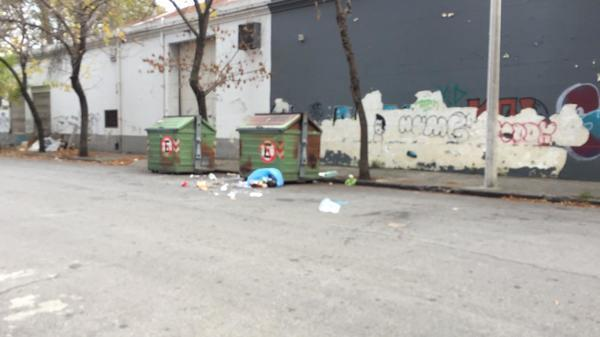Dechets: (177, 176, 264, 203), (246, 168, 284, 187), (319, 196, 342, 217), (46, 133, 72, 151), (17, 136, 39, 150), (344, 172, 356, 190), (319, 169, 338, 179)
Trash: (237, 114, 321, 181), (144, 113, 218, 175)
